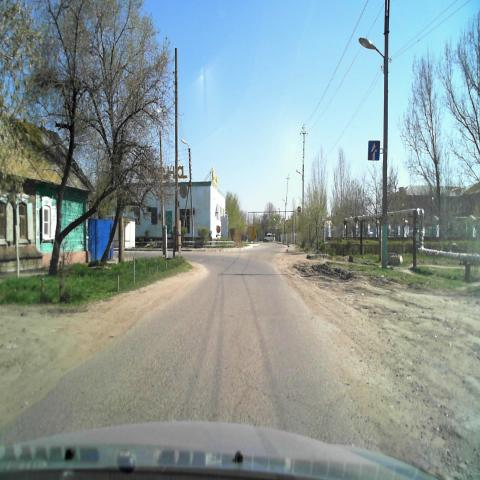5_6: (368, 140, 380, 161)
